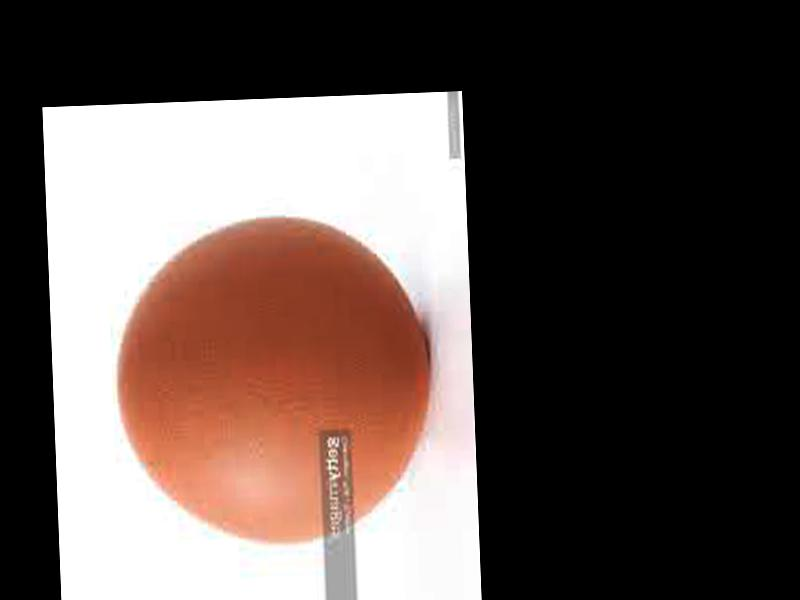Eggs: (110, 212, 429, 550)
